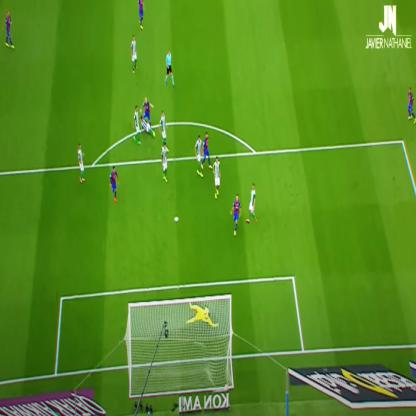goal: (122, 267, 255, 370)
